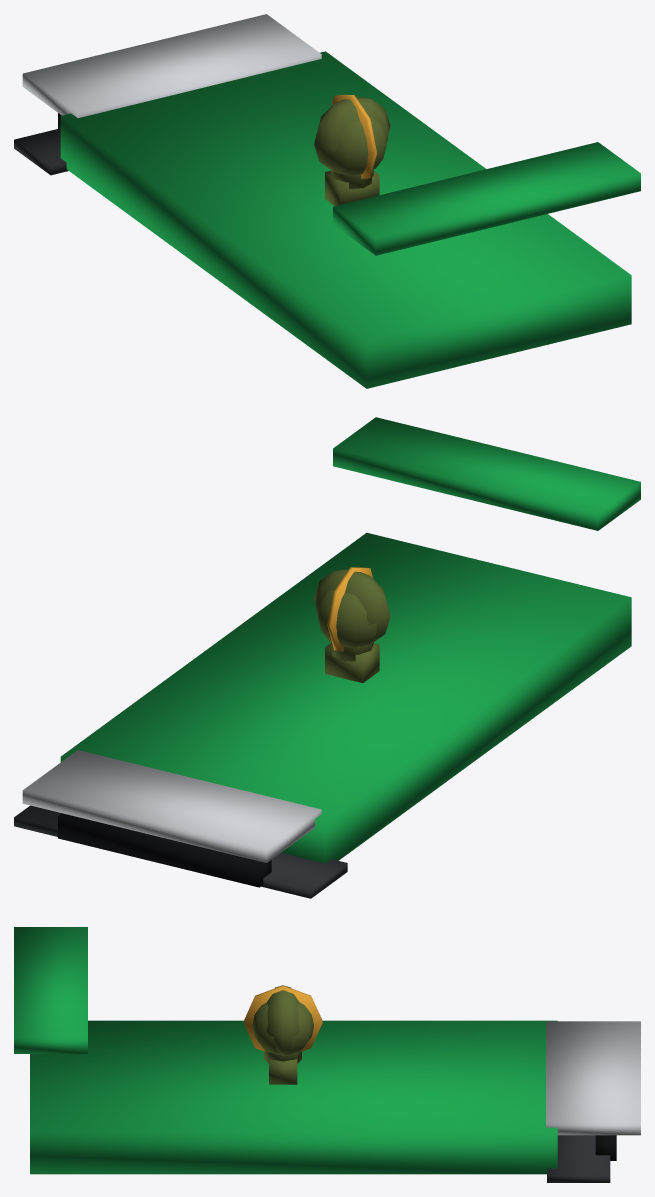
Rendered from formula.glb.
The picture shows the model from 3 angles, top to bottom: view 1: azimuth 30°, elevation 25°; view 2: azimuth 150°, elevation 25°; view 3: azimuth 270°, elevation 25°; orthographic projection. The views are drawn at different scales.
Parts seen in each view (by area): view 1: Formula; view 2: Formula; view 3: Formula.
Boxes of the visible parts, left/top/right/bottom form: Formula: left=14, top=14, right=640, bottom=388; Formula: left=14, top=417, right=640, bottom=898; Formula: left=14, top=927, right=640, bottom=1182.
Bounding box in the file's own units: 1.4 × 0.72 × 2.97.
